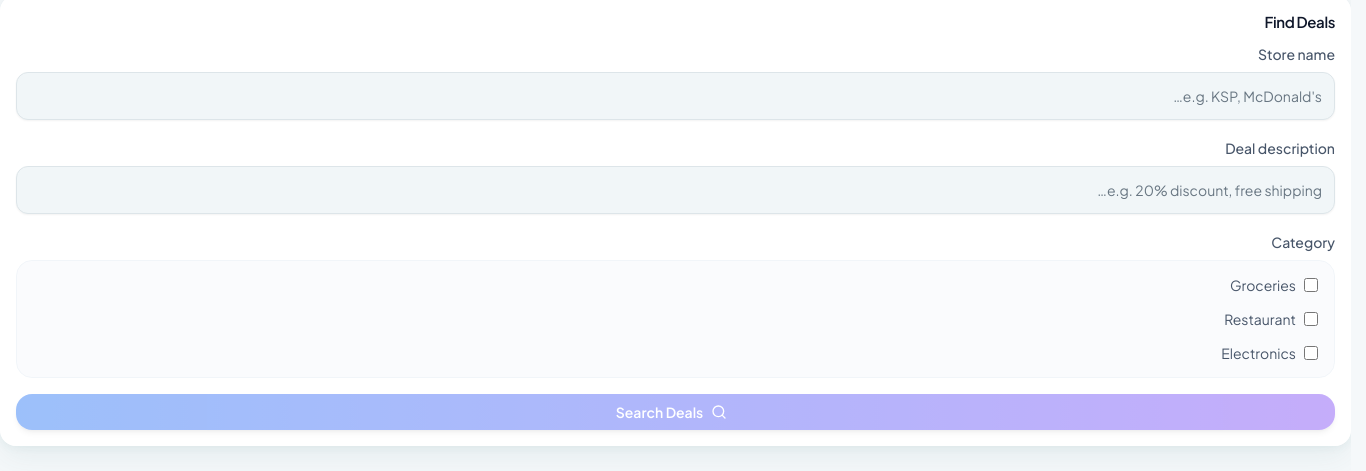
Test case: DealFilters › enables search button when a category checkbox is checked
Click the checkbox labelled "Groceries" at (1311,284), box 1304,278 -> 1318,292
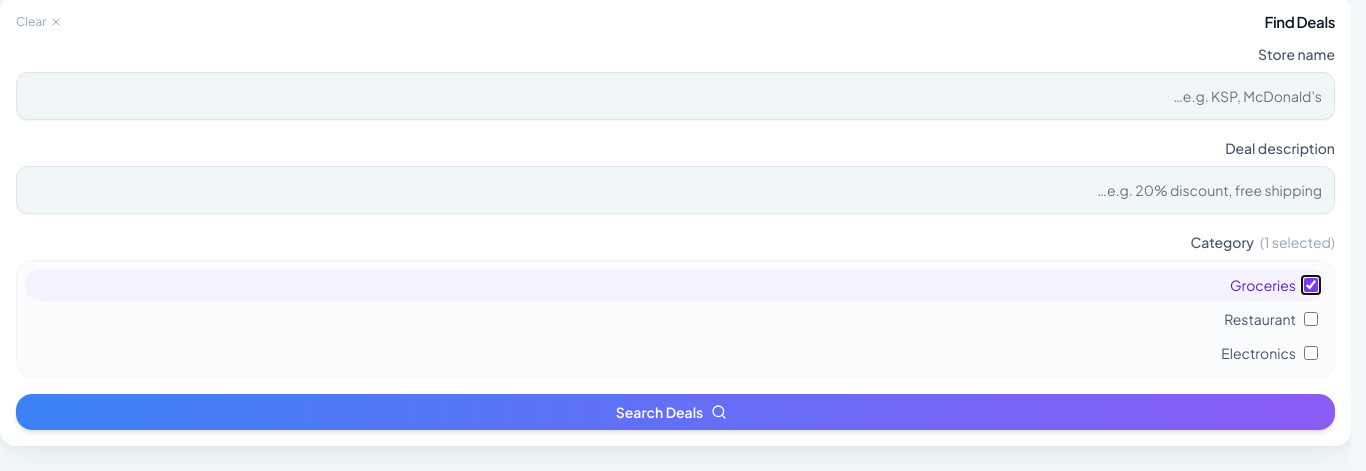
Now the button "Search Deals" is enabled, box 16,394 -> 1335,430
